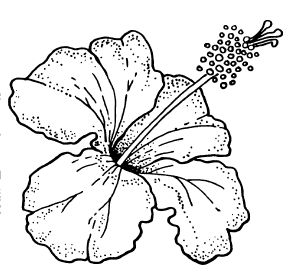Hibiscus: (15, 26, 287, 271)
